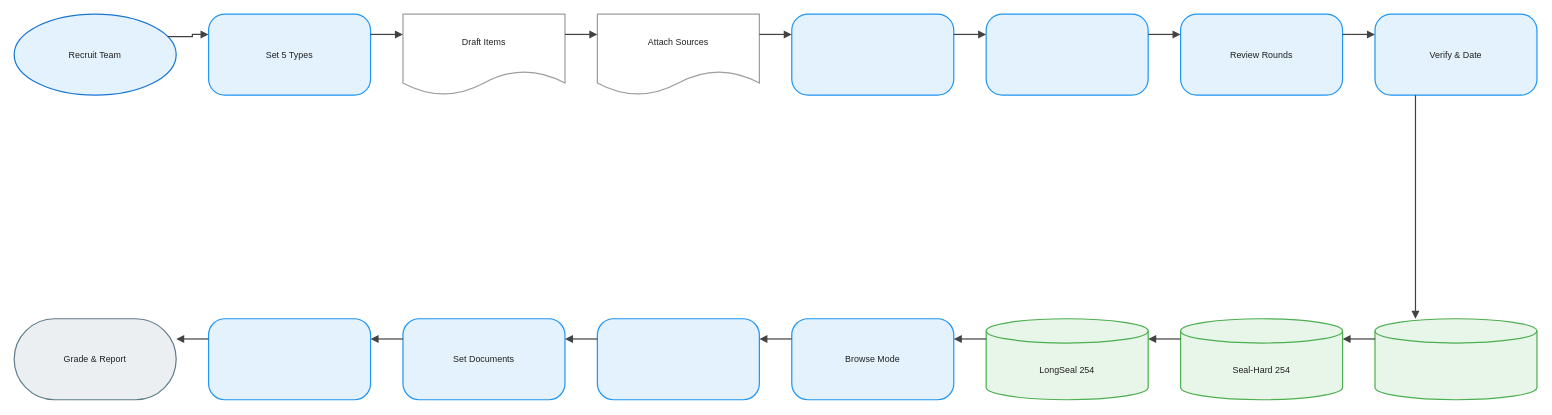
Image size: 1552x415. Some labels were removed from this diagram. Each missing label, with the centre of its shape:
Failure Tests: (1066,54)
Inject Search: (678,359)
Run Models: (289,359)
Seal-0 111: (1455,359)
Tag Freshness: (872,54)
